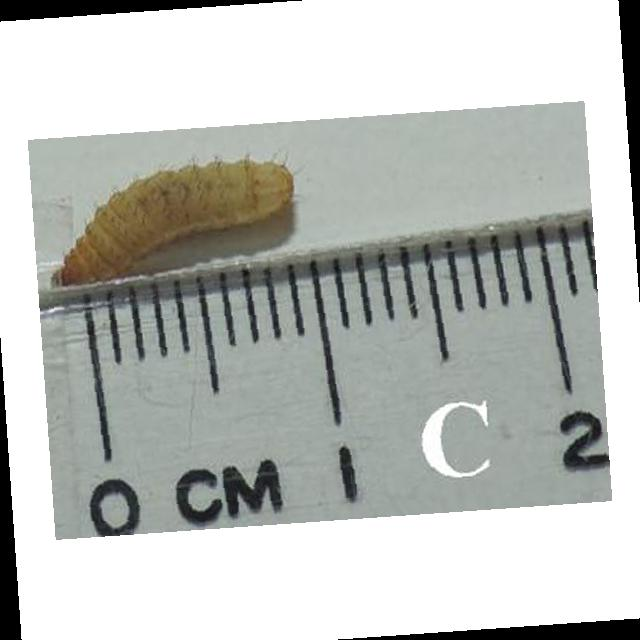Maggot: (51, 153, 299, 286)
